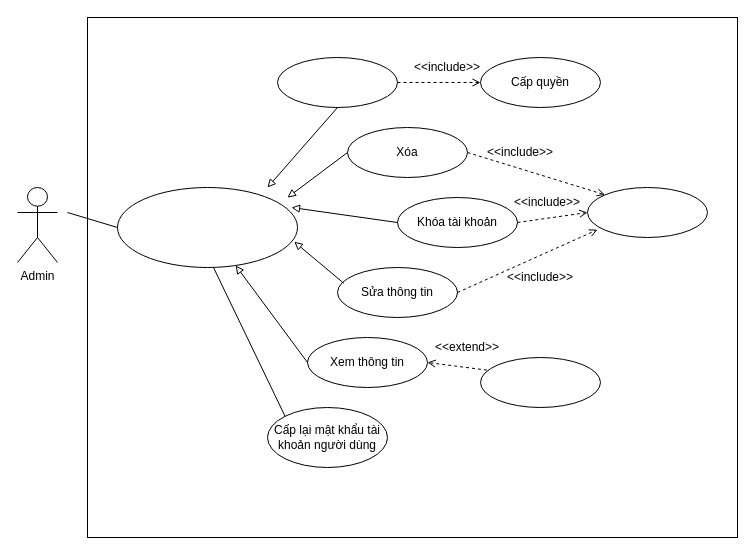
The diagram is 755 pixels wide and 555 high, and some of its shapes have lost their labels. Each missing label, with the box of its shape:
Quản lí thông tin người dùng: (116, 186, 298, 268)
Thêm thành viên: (276, 56, 398, 108)
Tìm kiếm: (480, 356, 600, 408)
Xem chi tiết: (586, 186, 708, 238)
